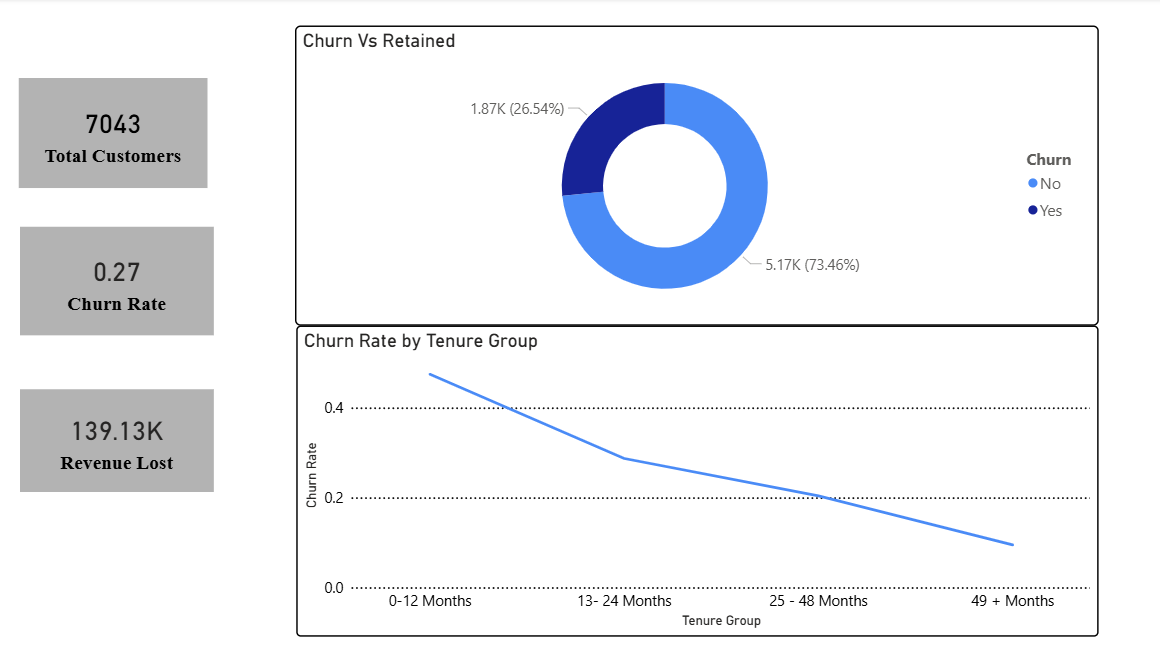

This screenshot's page, from the dashboard's own definition file:
{"tool":"powerbi","page":{"name":"Executive Overview","canvas":[1280,720],"ordinal":0},"visuals":[{"type":"card","fields":{"Values":["WA_Fn-UseC_-Telco-Customer-Churn.Total Customers"]},"box":[20.6,87.8,207.2,120.8],"z":0},{"type":"card","fields":{"Values":["WA_Fn-UseC_-Telco-Customer-Churn.Churn Rate"]},"box":[22,251.1,212.7,119.4],"z":1000},{"type":"card","fields":{"Values":["WA_Fn-UseC_-Telco-Customer-Churn.Revenue Lost"]},"box":[22,429.5,212.7,112.5],"z":2000},{"type":"donutChart","title":"Churn Vs Retained","fields":{"Category":["WA_Fn-UseC_-Telco-Customer-Churn.Churn"],"Y":["CountNonNull(WA_Fn-UseC_-Telco-Customer-Churn.customerID)"]},"box":[323.8,30.2,882.3,329.3],"z":3000},{"type":"lineChart","fields":{"Y":["WA_Fn-UseC_-Telco-Customer-Churn.Churn Rate"],"Category":["WA_Fn-UseC_-Telco-Customer-Churn.Tenure Group"]},"box":[325.2,359.5,881,341.7],"z":4000}]}

Visuals, with their boxes in screenshot pixels (x1, y1, x2, y2), scaled from the page's 1280x720 canvas onto the 1160x650 screenshot:
card - WA_Fn-UseC_-Telco-Customer-Churn.Total Customers: box=[19, 79, 206, 188]
card - WA_Fn-UseC_-Telco-Customer-Churn.Churn Rate: box=[20, 227, 213, 334]
card - WA_Fn-UseC_-Telco-Customer-Churn.Revenue Lost: box=[20, 388, 213, 489]
"Churn Vs Retained" donutChart: box=[293, 27, 1093, 325]
lineChart - WA_Fn-UseC_-Telco-Customer-Churn.Churn Rate x WA_Fn-UseC_-Telco-Customer-Churn.Tenure Group: box=[295, 325, 1093, 633]
